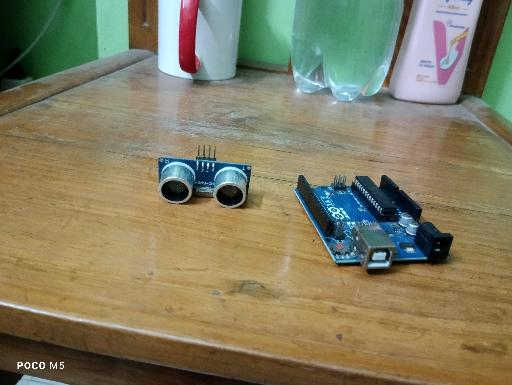Arduino: (294, 173, 453, 271)
sensor: (157, 144, 252, 209)
